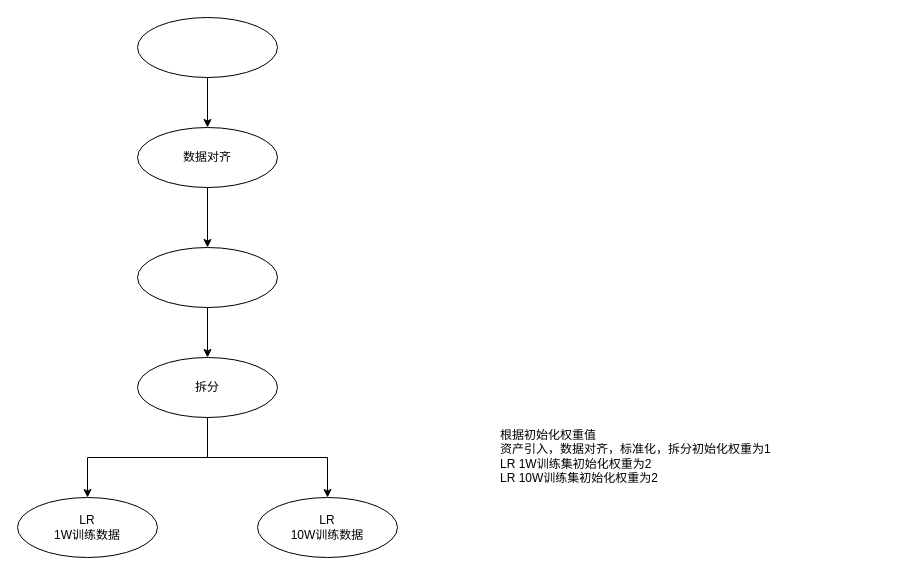
The diagram is 914 pixels wide and 575 high, and some of its shapes have lost their labels. Here are the shapes that lost their labels. From the top down, the box of each, then its label:
(136, 16, 278, 78): 资产引入
(136, 246, 278, 308): 标准化
